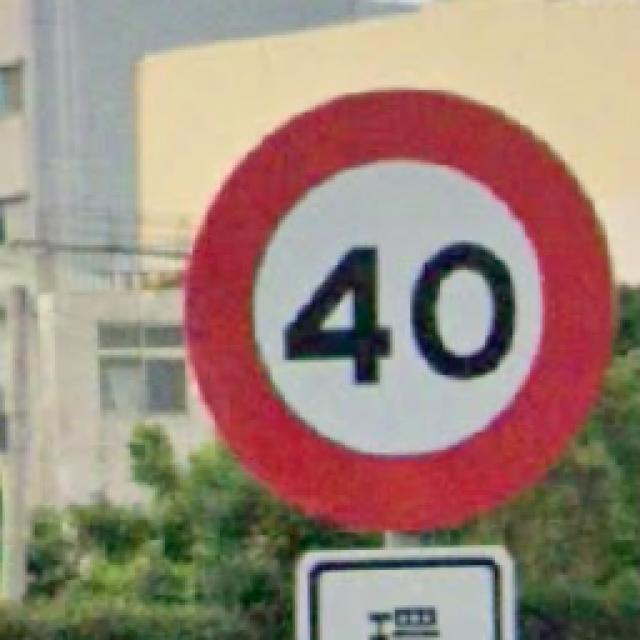Speed Limit -40-: (188, 92, 610, 525)
